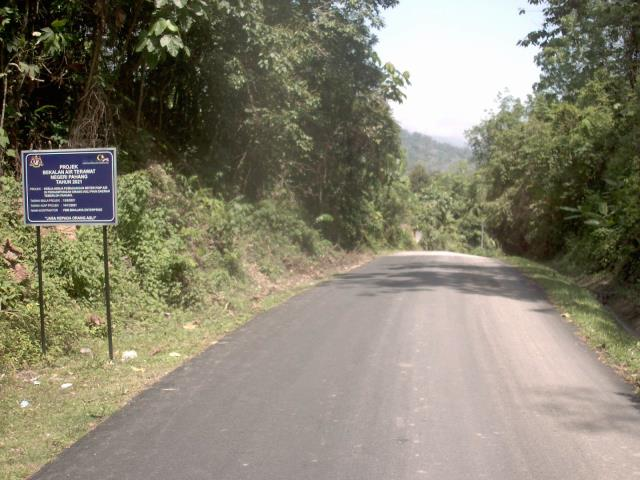ads_sign: (15, 142, 123, 233)
